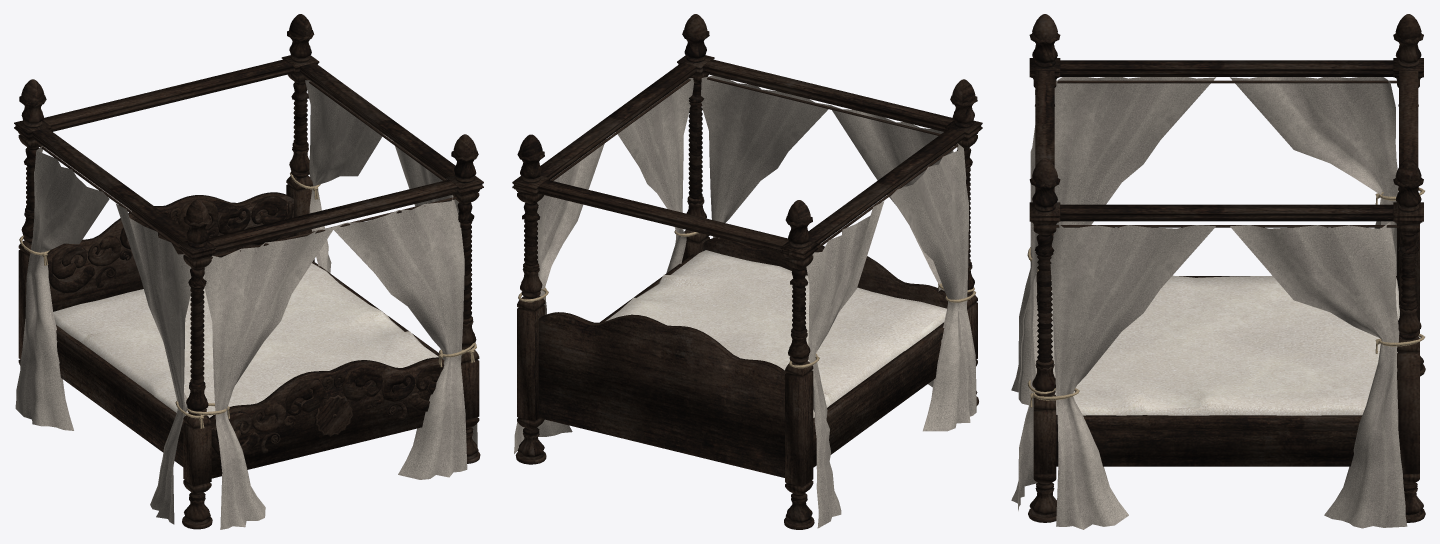
The model's file is unseen_fancy_bed.glb.
The picture shows the model from 3 angles, left to right: view 1: azimuth 30°, elevation 25°; view 2: azimuth 150°, elevation 25°; view 3: azimuth 270°, elevation 25°; orthographic projection. The views are drawn at different scales.
Visible parts, largest first — view 1: 2ndFlr_ParentsBed_Core, Plane.020, 2ndFlr_ParentsBed_Mattress; view 2: 2ndFlr_ParentsBed_Core, Plane.020, 2ndFlr_ParentsBed_Mattress; view 3: Plane.020, 2ndFlr_ParentsBed_Core, 2ndFlr_ParentsBed_Mattress.
Boxes of the visible parts, box(x1,y1,x2,y2) form: 2ndFlr_ParentsBed_Core: box(14, 14, 483, 529); Plane.020: box(15, 78, 477, 529); 2ndFlr_ParentsBed_Mattress: box(53, 263, 438, 417); 2ndFlr_ParentsBed_Core: box(512, 14, 982, 529); Plane.020: box(514, 75, 976, 528); 2ndFlr_ParentsBed_Mattress: box(605, 250, 946, 417); Plane.020: box(1011, 77, 1424, 529); 2ndFlr_ParentsBed_Core: box(1028, 14, 1425, 522); 2ndFlr_ParentsBed_Mattress: box(1051, 275, 1399, 415).
Size of the model in its own units: 222 by 217 by 228.
3 materials, 3 textured.
